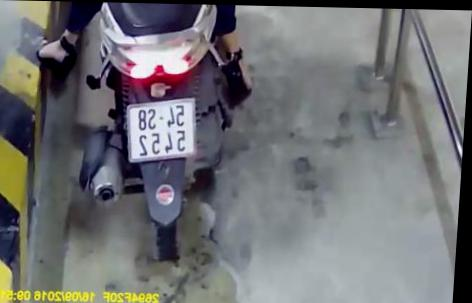License_Plate: (119, 90, 207, 168)
